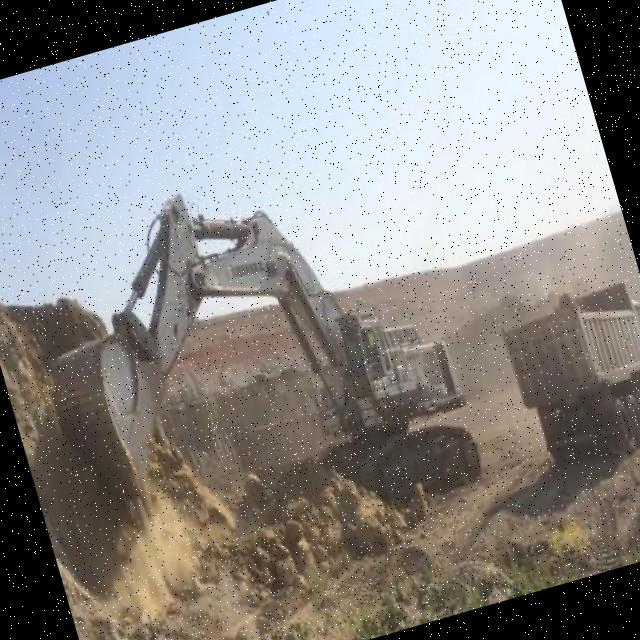Dump Truck: (492, 267, 640, 481)
Excavator: (5, 126, 492, 602)
